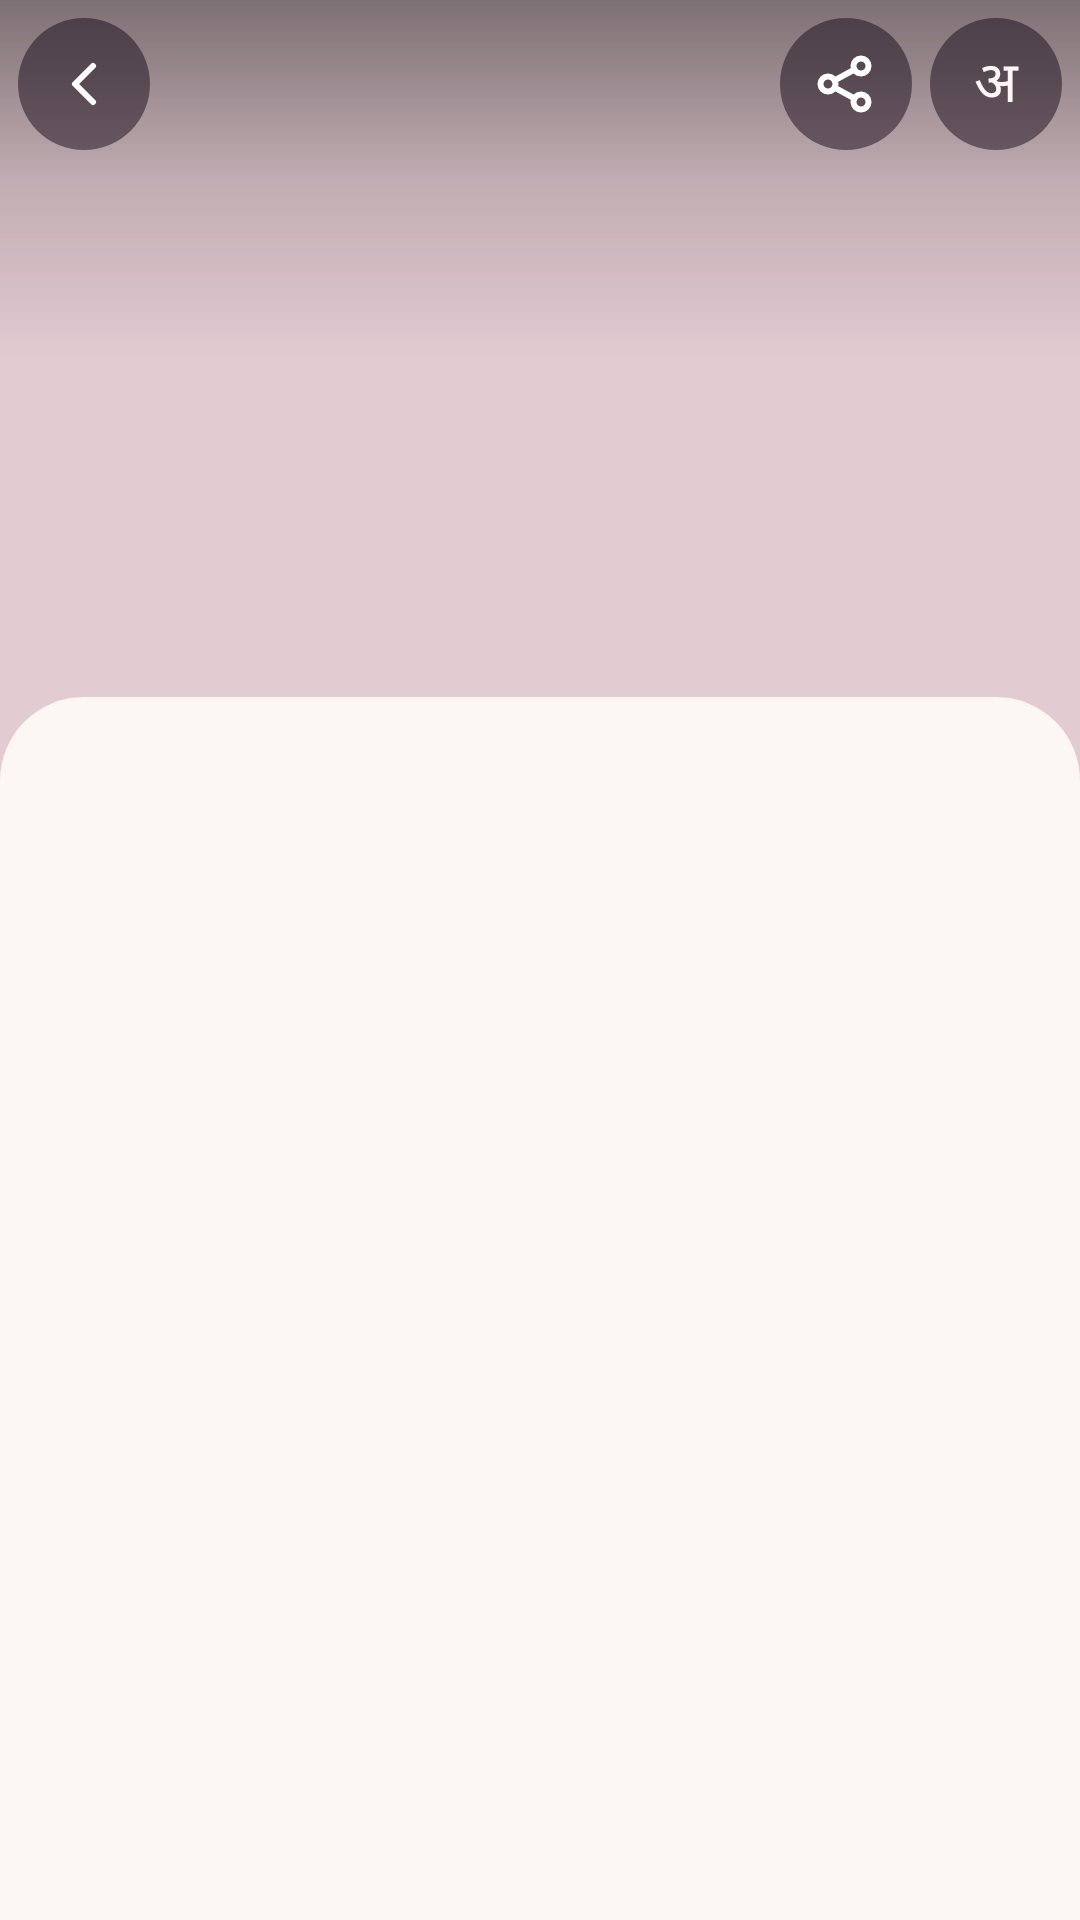

Named icons in this screenshot (1080 x 1920) and their centers, [x,y]:
कहानी साझा करें: [846,84]
वापस जाएँ: [84,84]
